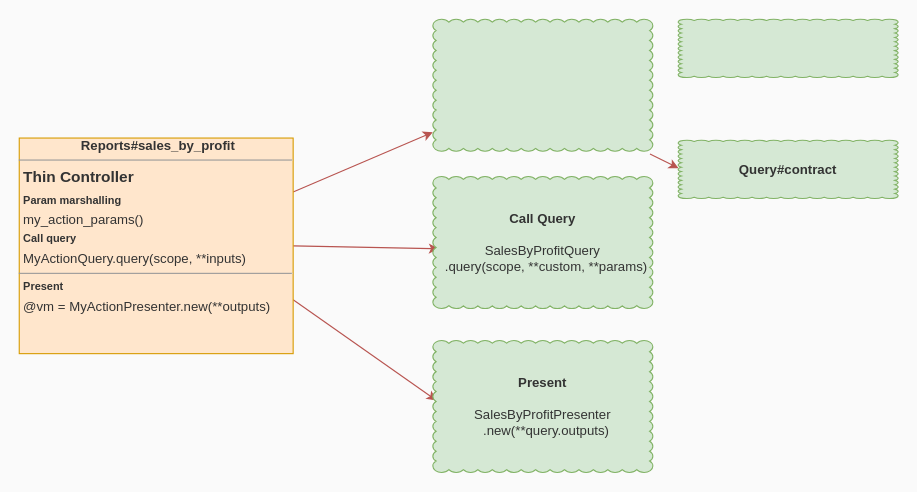
This 917x492 diagram has some shape labels left out. Each missing label, with the centre of its shape:
"Form Object" goes at point (787, 48).
"Param marshaling @sales_by_profit_params ||= params.permit(...) .symbolize_keys" goes at point (542, 84).
